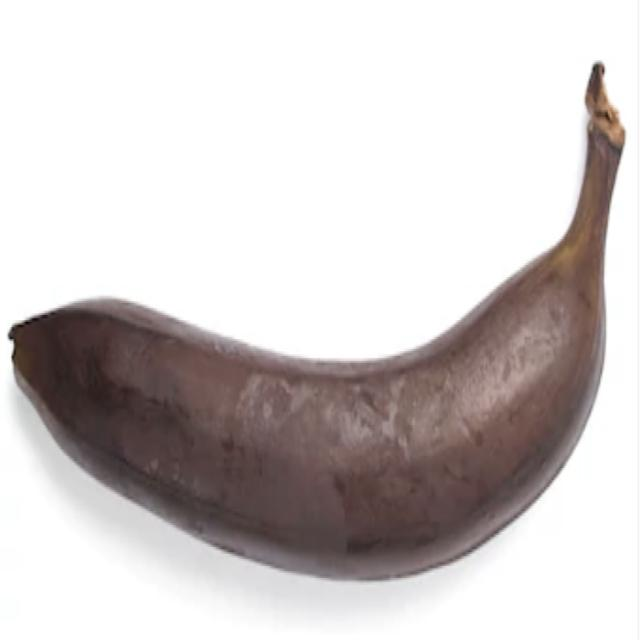rotten-banana: (7, 59, 627, 582)
